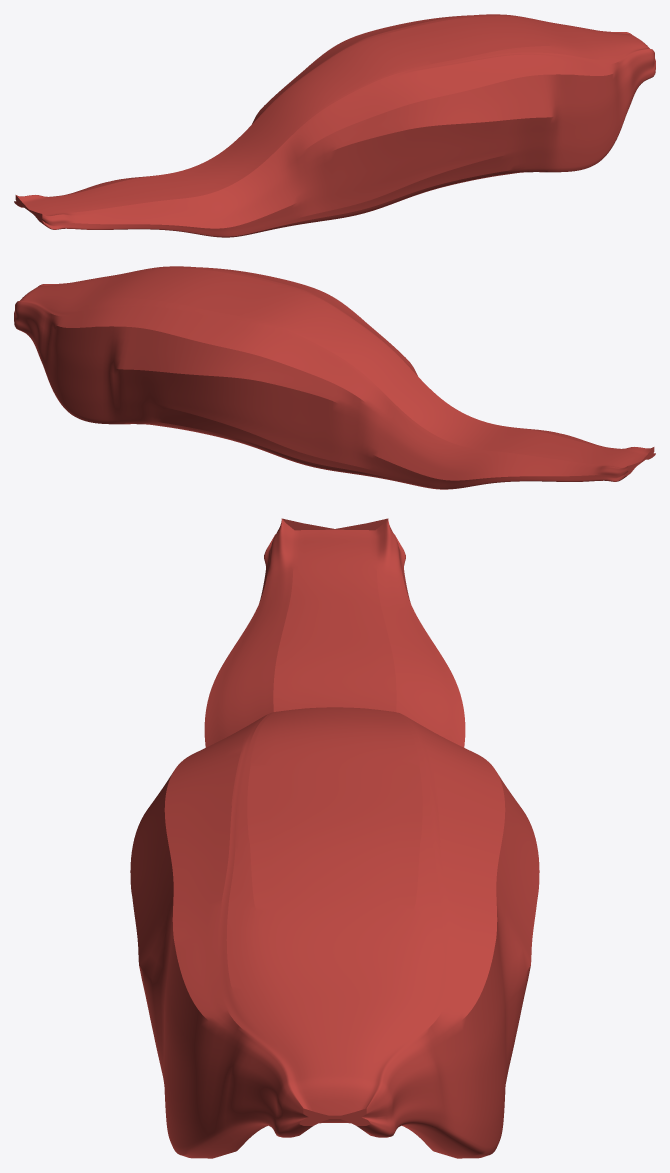
The model's file is adventure_3.glb.
The picture shows the model from 3 angles, top to bottom: view 1: azimuth 30°, elevation 25°; view 2: azimuth 150°, elevation 25°; view 3: azimuth 270°, elevation 25°; orthographic projection. The views are drawn at different scales.
Visible parts, largest first — view 1: adventure_3; view 2: adventure_3; view 3: adventure_3.
Boxes of the visible parts, x1=… form: adventure_3: x1=14, y1=14, x2=655, y2=237; adventure_3: x1=14, y1=266, x2=655, y2=489; adventure_3: x1=130, y1=518, x2=539, y2=1158.
Size of the model in its own units: 1.65 by 0.324 by 0.4736.
